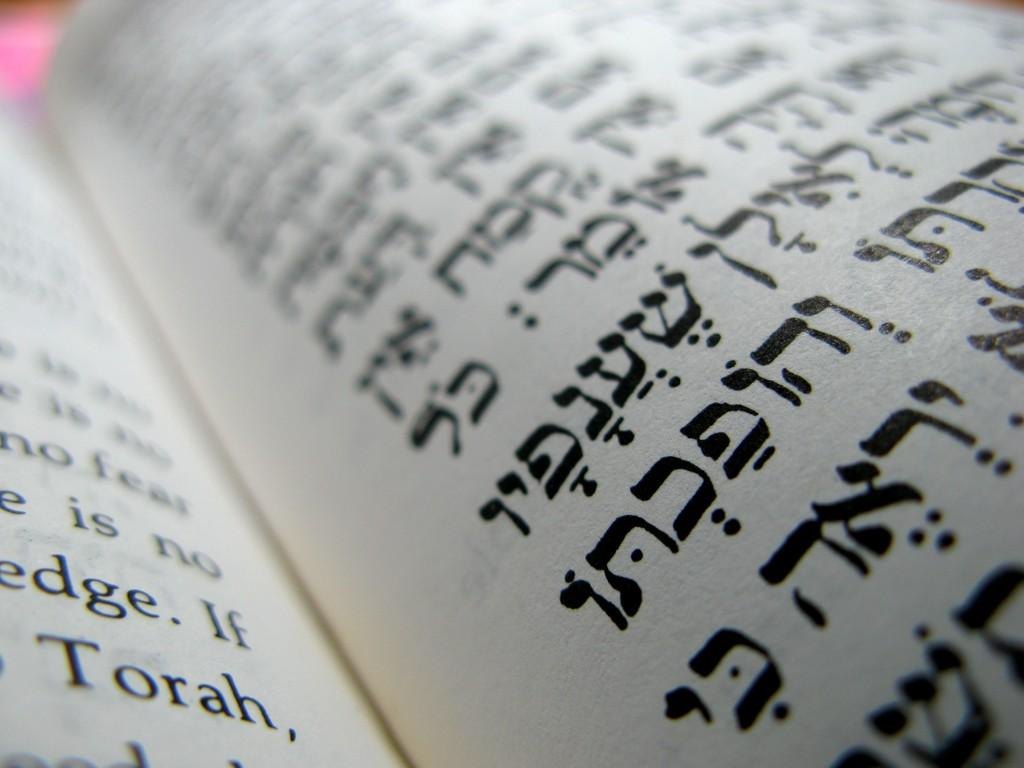Book: (0, 0, 1024, 758)
